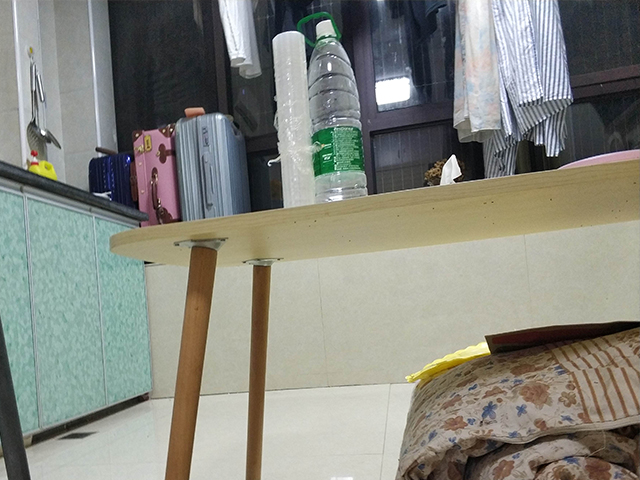cabinet: (1, 160, 154, 459)
table: (107, 157, 640, 478)
